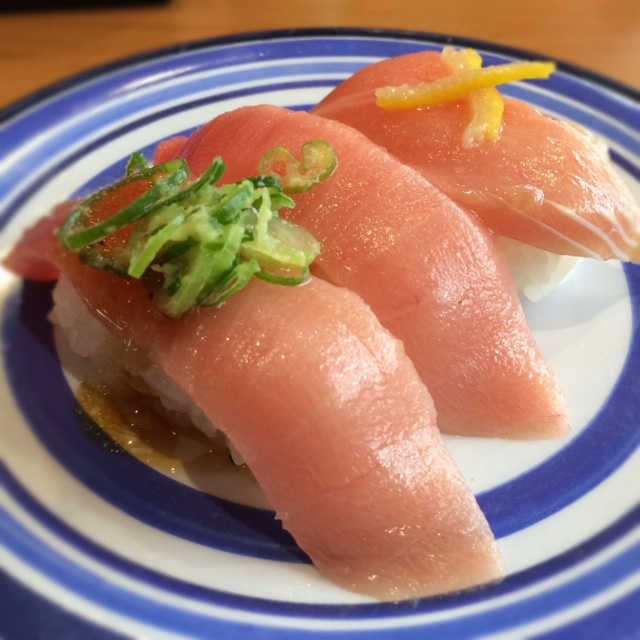medium_fatty_tuna: (15, 198, 496, 599)
